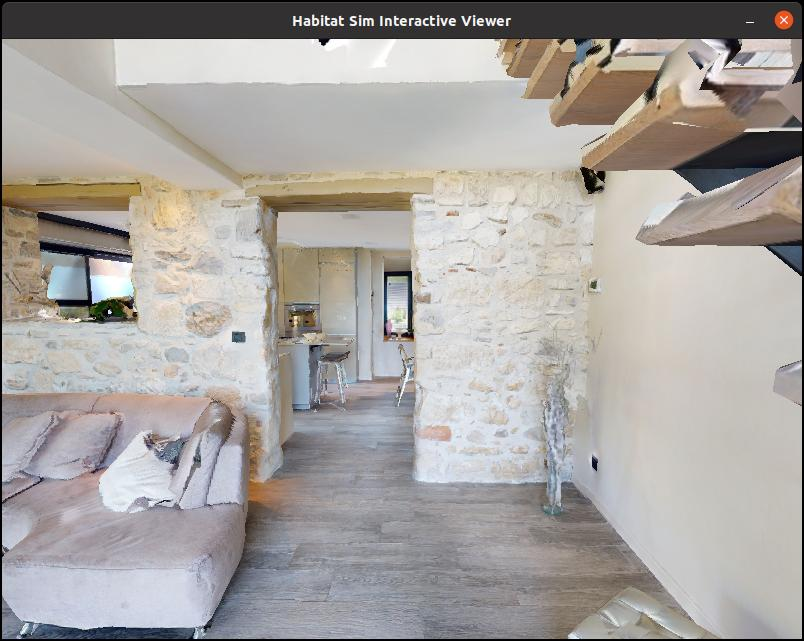door-frame: (255, 183, 442, 520)
sofa: (0, 389, 291, 615)
